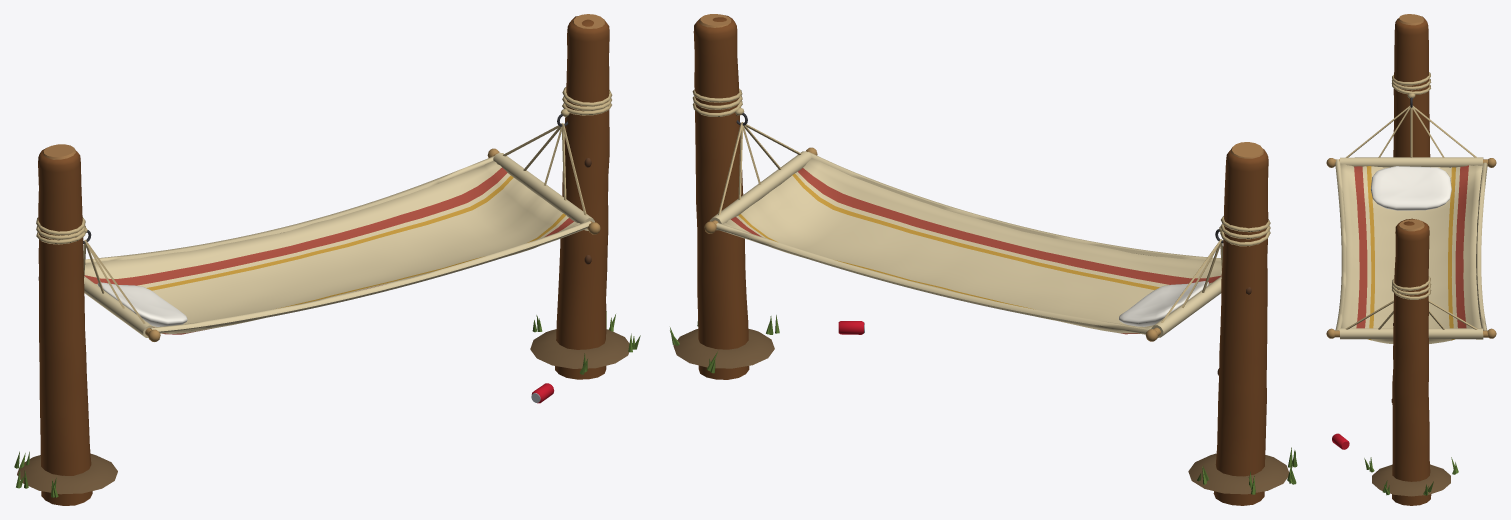
File: hammock.glb
The picture shows the model from 3 angles, left to right: view 1: azimuth 30°, elevation 25°; view 2: azimuth 150°, elevation 25°; view 3: azimuth 270°, elevation 25°; orthographic projection. The views are drawn at different scales.
Visible parts, largest first — view 1: Hammock; view 2: Hammock; view 3: Hammock.
Boxes of the visible parts, box(x1,y1,x2,y2) form: Hammock: box(14, 14, 640, 505); Hammock: box(670, 14, 1297, 505); Hammock: box(1326, 14, 1496, 505).
Size of the model in its own units: 3.34 by 1.82 by 1.01.
